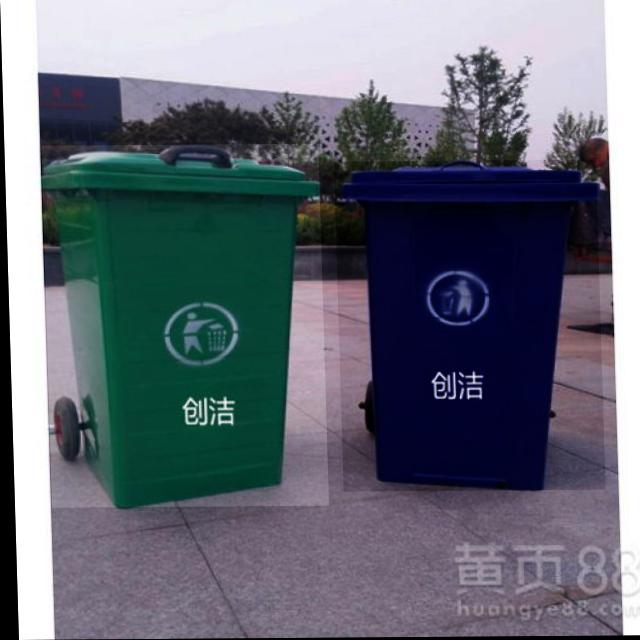garbage_bin: (41, 144, 326, 508), (333, 161, 603, 492)
